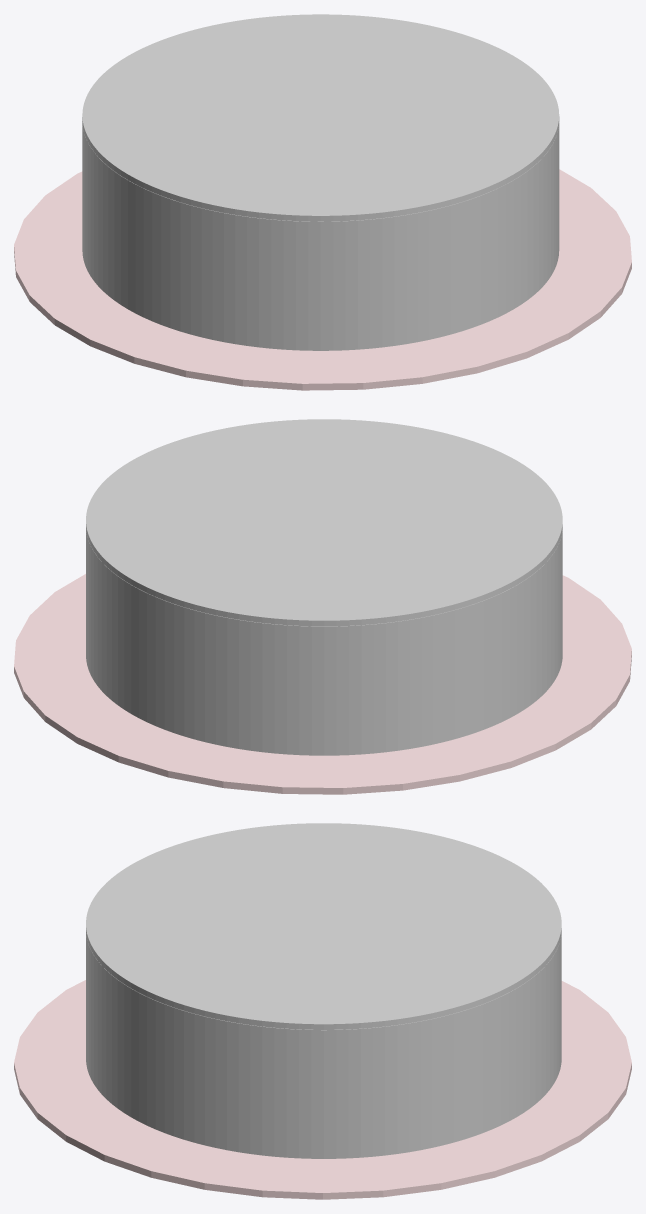
The model's file is CakeBlayer1_smooth.glb.
The picture shows the model from 3 angles, top to bottom: view 1: azimuth 30°, elevation 25°; view 2: azimuth 150°, elevation 25°; view 3: azimuth 270°, elevation 25°; orthographic projection.
Parts seen in each view (by area): view 1: Cylinder.005, Cylinder.004, plate 4.001; view 2: Cylinder.005, Cylinder.004, plate 4.001; view 3: Cylinder.005, Cylinder.004, plate 4.001.
Boxes of the visible parts, box(x1,y1,x2,y2) form: Cylinder.005: box(82, 14, 559, 221); Cylinder.004: box(82, 122, 559, 350); plate 4.001: box(14, 169, 631, 390); Cylinder.005: box(86, 419, 562, 626); Cylinder.004: box(86, 530, 562, 755); plate 4.001: box(14, 574, 631, 794); Cylinder.005: box(86, 823, 561, 1029); Cylinder.004: box(86, 933, 561, 1158); plate 4.001: box(14, 980, 631, 1199).
Bounding box in the file's own units: 1.97 × 0.5098 × 1.97.
